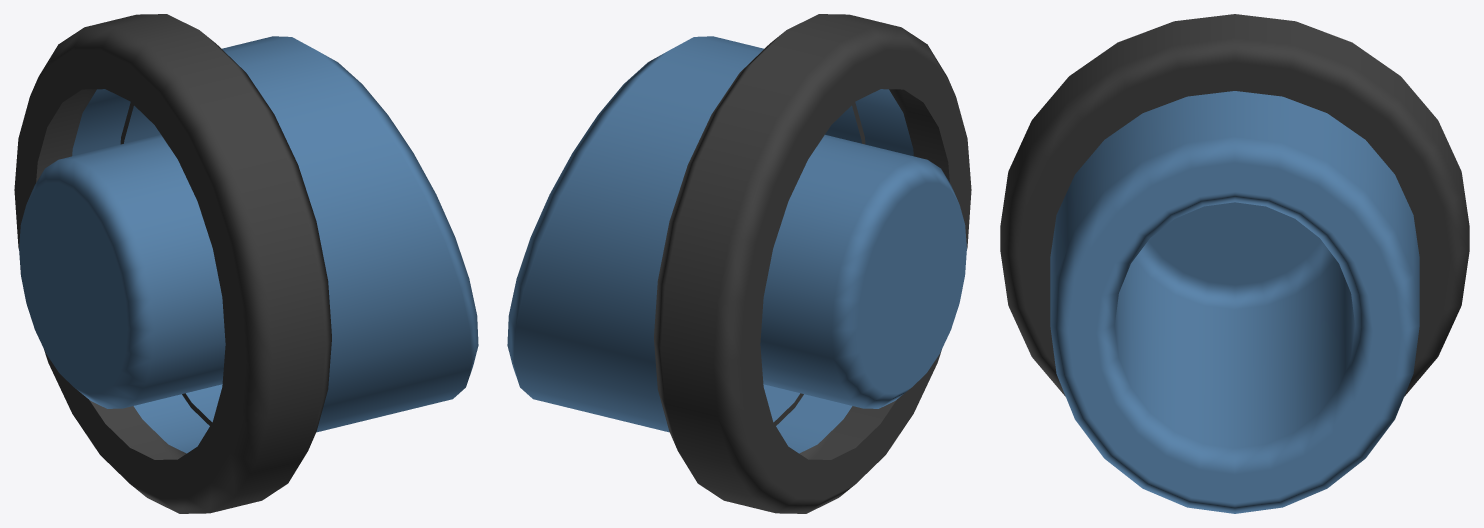
File: Pipe_End.fbx
3 views of the same model, side by side, from view 1: azimuth 30°, elevation 25°; view 2: azimuth 150°, elevation 25°; view 3: azimuth 270°, elevation 25° (orthographic). The views are drawn at different scales.
Parts seen in each view (by area): view 1: Pipe_End; view 2: Pipe_End; view 3: Pipe_End.
Part boxes in pixels (x1,y1,x2,y2): Pipe_End: [14, 14, 478, 513]; Pipe_End: [507, 14, 971, 513]; Pipe_End: [1000, 14, 1469, 513].
Bounding box in the file's own units: 40.79 × 50.8 × 50.8.
